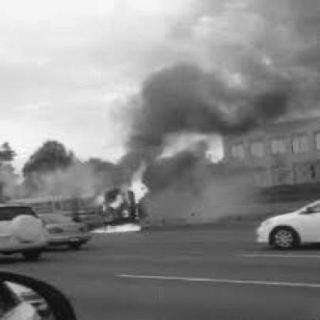Smoke: (119, 46, 259, 152)
